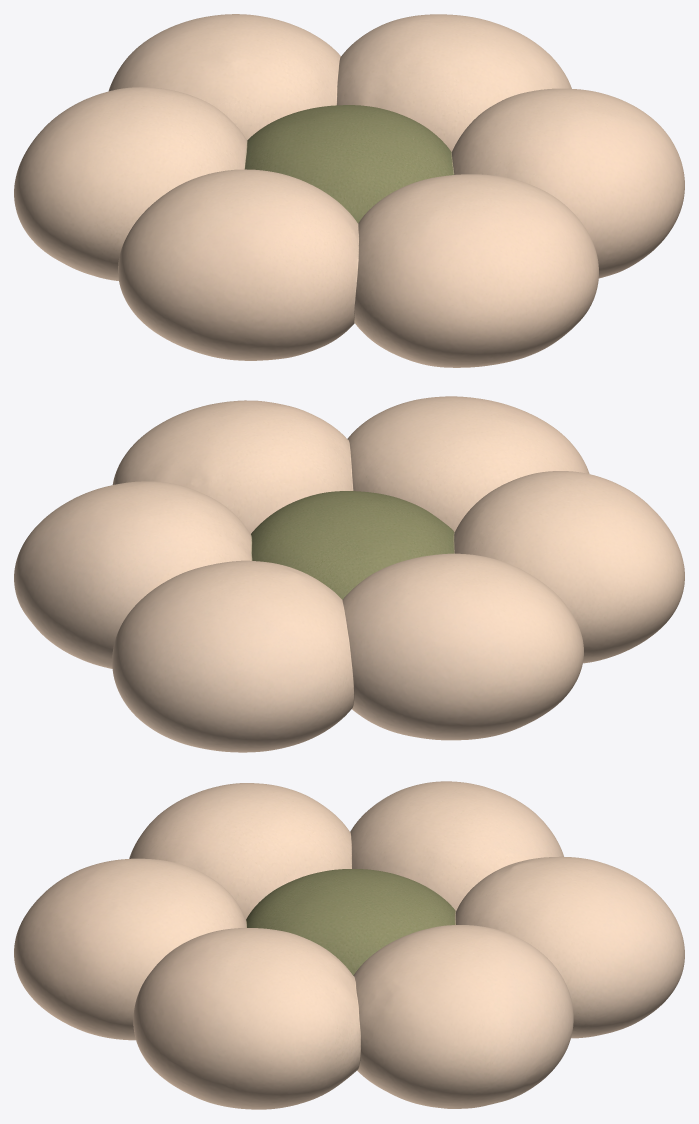
File: floor-pillow.glb
3 views of the same model, one above another, from view 1: azimuth 30°, elevation 25°; view 2: azimuth 150°, elevation 25°; view 3: azimuth 270°, elevation 25° (orthographic). The views are drawn at different scales.
Size of the model in its own units: 1.68 by 0.4735 by 1.9.
1 material, 1 textured.
